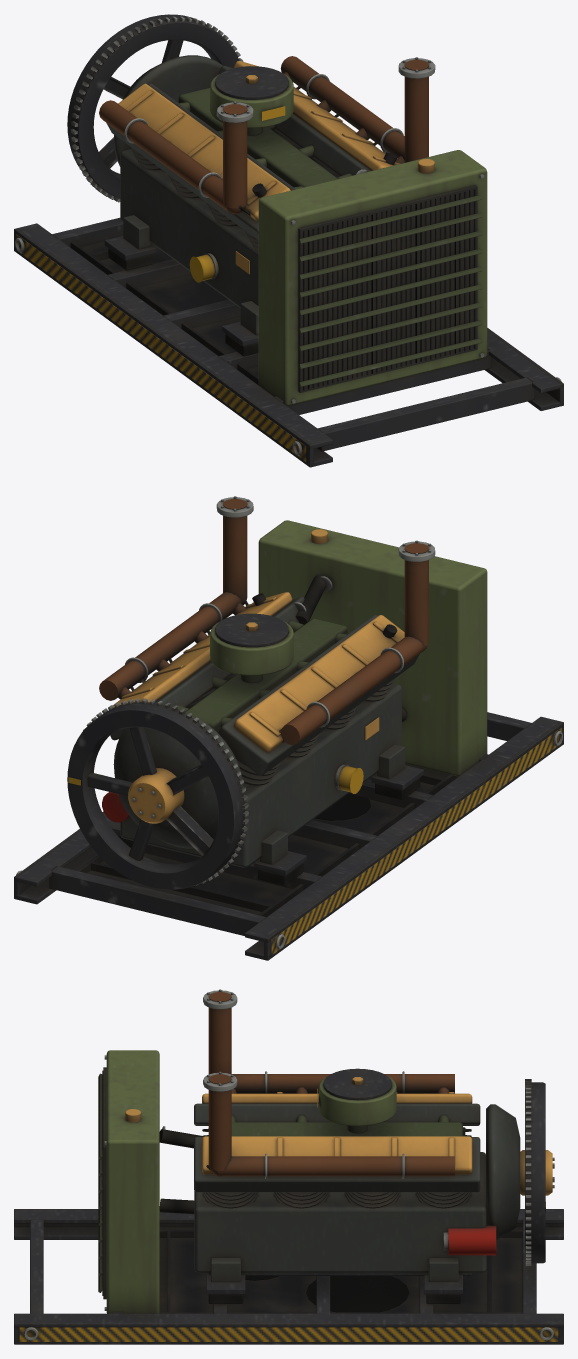
The model's file is outpost_generator.gltf.
3 views of the same model, one above another, from view 1: azimuth 30°, elevation 25°; view 2: azimuth 150°, elevation 25°; view 3: azimuth 270°, elevation 25° (orthographic). The views are drawn at different scales.
Parts seen in each view (by area): view 1: Engine, Skid, Flywheel; view 2: Engine, Skid, Flywheel; view 3: Engine, Skid, Flywheel.
Boxes of the visible parts, bbox=[...] form: Engine: bbox=[99, 55, 487, 406]; Skid: bbox=[14, 217, 563, 467]; Flywheel: bbox=[67, 14, 243, 202]; Engine: bbox=[99, 496, 487, 867]; Skid: bbox=[14, 712, 563, 960]; Flywheel: bbox=[67, 698, 248, 889]; Engine: bbox=[98, 989, 520, 1313]; Skid: bbox=[14, 1209, 563, 1344]; Flywheel: bbox=[520, 1079, 554, 1266].
Bounding box in the file's own units: 2.46 × 2.41 × 4.8.
Materials: 14 (14 with a texture image).
